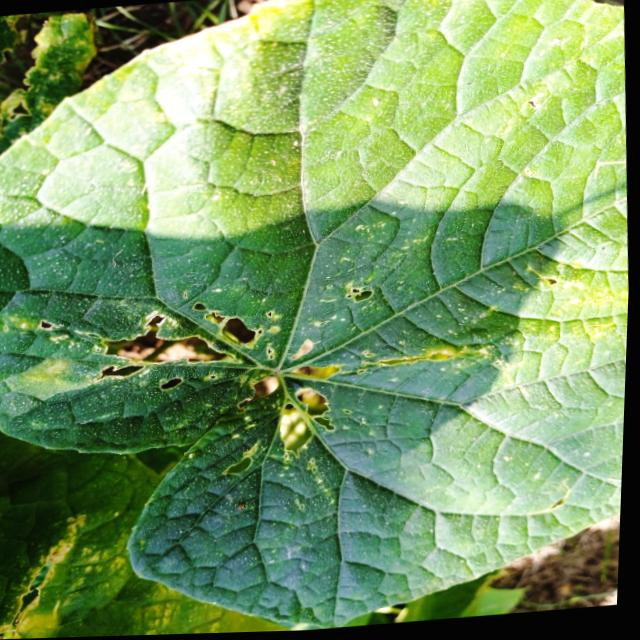Anthracnose: (25, 298, 461, 478), (336, 279, 384, 315)
